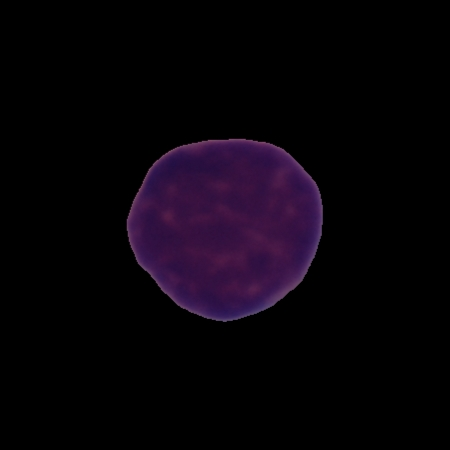ALL: (124, 134, 329, 325)
